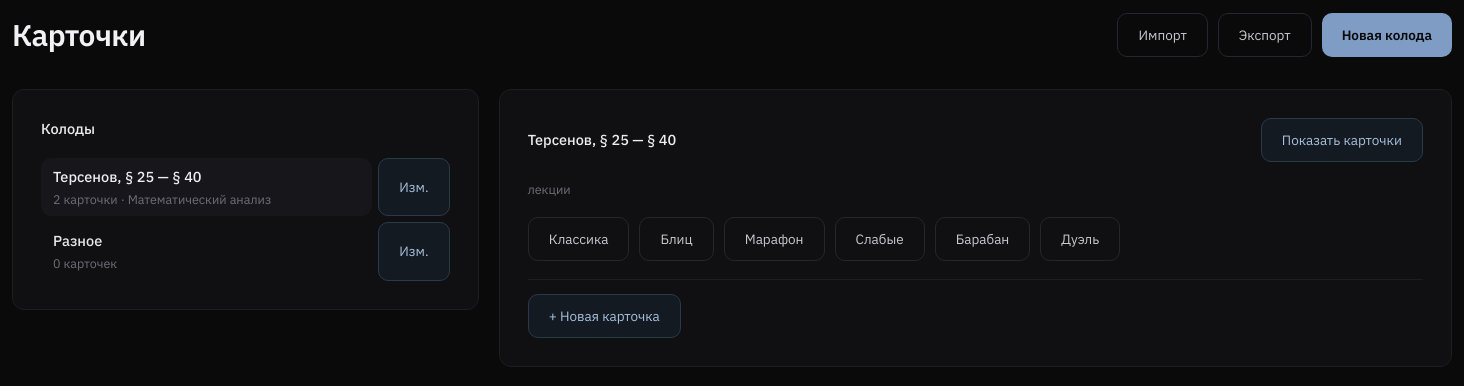
Test: экран карточек › переключает колоду по нажатию
The image size is (1464, 386).
Click the button "Разное 0 карточек".
click(78, 241)  # box [41,222,372,281]
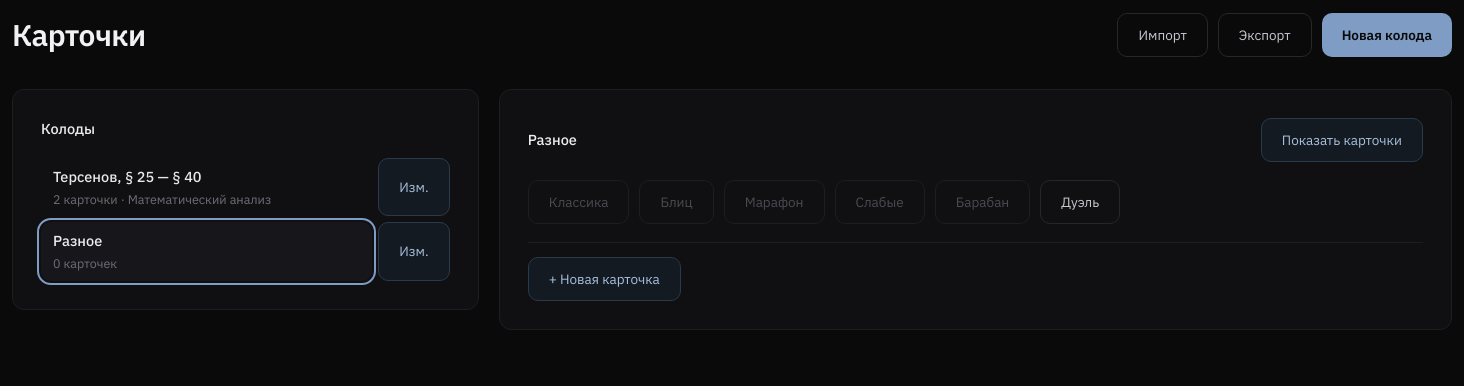
Click the button "Показать карточки".
click(1342, 140)  # box [1261,118,1423,162]
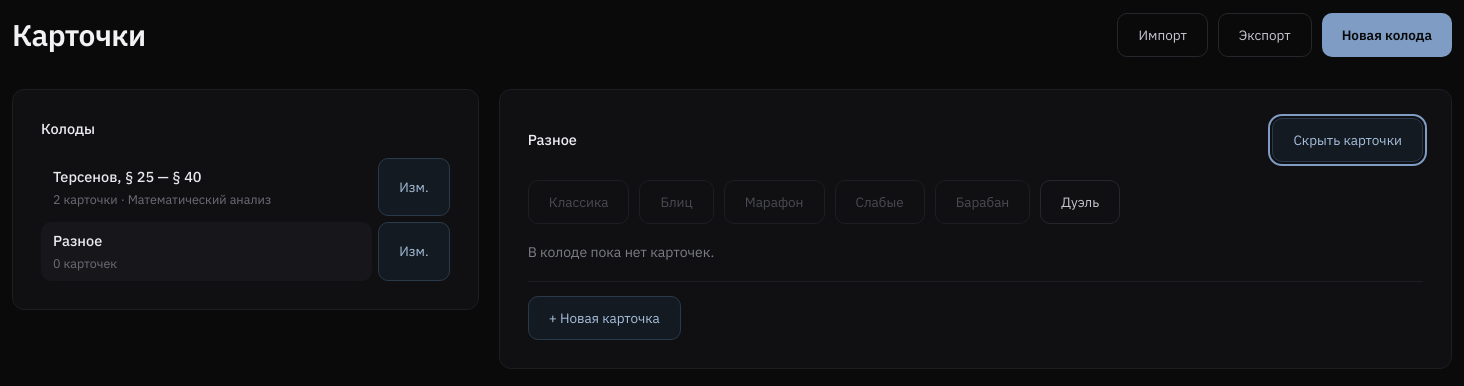
Result: the text "В колоде пока нет карточек." is shown at [528,243,714,261]
